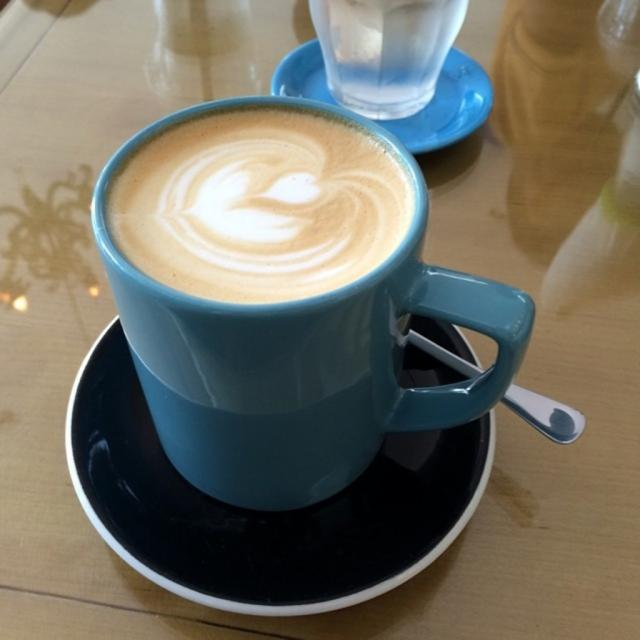Coffee: (102, 107, 417, 298)
